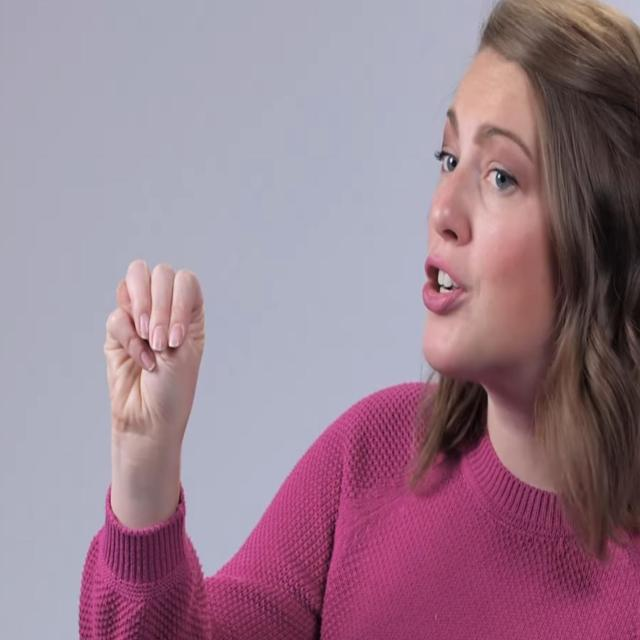M: (101, 253, 208, 446)
